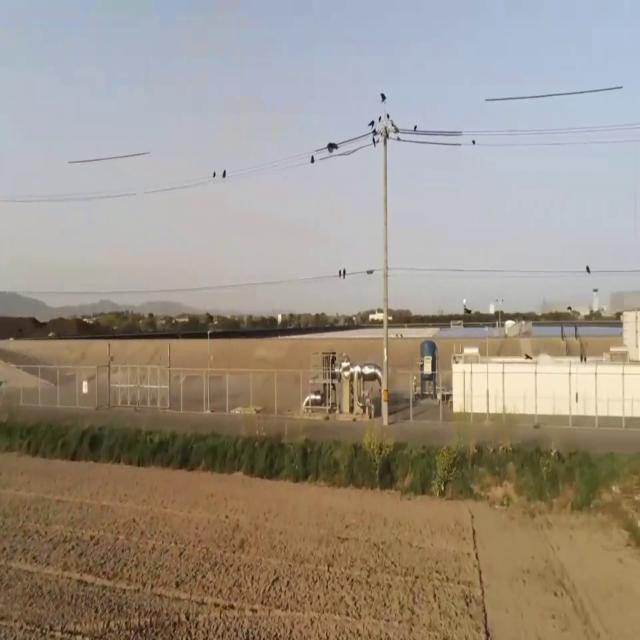bird: (326, 131, 338, 160), (368, 112, 375, 134)
